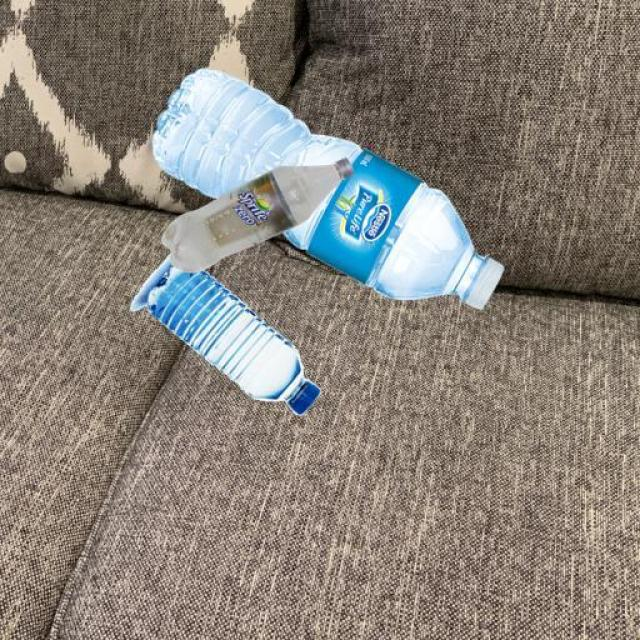bottle: (142, 55, 505, 358)
